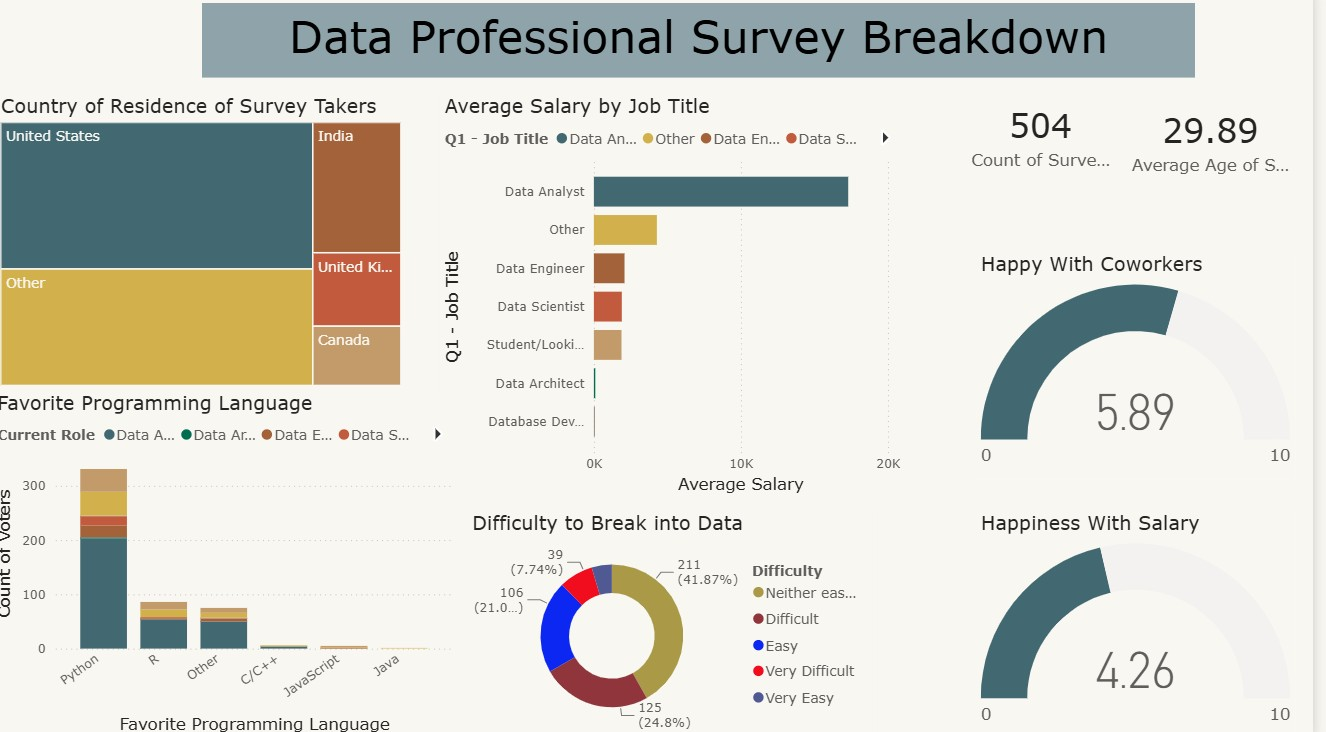

This screenshot's page, from the dashboard's own definition file:
{"tool":"powerbi","page":{"name":"Page 1","canvas":[1280,720],"ordinal":0},"visuals":[{"type":"card","fields":{"Values":["CountNonNull(Data Professional Survey.Unique ID)"]},"box":[944.6,82,144.8,111],"z":0},{"type":"textbox","box":[207.9,9.8,958.7,72.1],"z":1000},{"type":"card","fields":{"Values":["Avg(Data Professional Survey.Q10 - Current Age)"]},"box":[1098.8,82.5,163.8,121.2],"z":2000},{"type":"barChart","title":"Average Salary by Job Title","fields":{"Category":["Data Professional Survey.Q1 - Which Title Best Fits your Current Role?.1"],"Y":["Sum(Data Professional Survey.Average Salary)"],"Series":["Data Professional Survey.Q1 - Which Title Best Fits your Current Role?.1"]},"box":[436.2,97.5,450,390],"z":3000},{"type":"columnChart","title":"Favorite Programming Language","fields":{"Category":["Data Professional Survey.Q5 - Favorite Programming Language.1"],"Y":["CountNonNull(Data Professional Survey.Unique ID)"],"Series":["Data Professional Survey.Q1 - Which Title Best Fits your Current Role?.1"]},"box":[5,383.8,450,336.2],"z":4000},{"type":"treemap","title":"Country of Residence of Survey Takers","fields":{"Group":["Data Professional Survey.Q11 - Which Country do you live in?.1"],"Values":["CountNonNull(Data Professional Survey.Q11 - Which Country do you live in?.1)"]},"box":[8.8,97.5,396.2,286.2],"z":5000},{"type":"gauge","title":"Happy With Coworkers","fields":{"Y":["Avg(Data Professional Survey.Q6 - How Happy are you in your Current Position with the following? (Coworkers))"],"MinValue":["Min(Data Professional Survey.Q6 - How Happy are you in your Current Position with the following? (Coworkers))"],"MaxValue":["Max(Data Professional Survey.Q6 - How Happy are you in your Current Position with the following? (Coworkers))1"]},"box":[953.8,250,308.8,220],"z":6000},{"type":"gauge","title":"Happiness With Salary","fields":{"Y":["Avg(Data Professional Survey.Q6 - How Happy are you in your Current Position with the following? (Salary))"],"MinValue":["Min(Data Professional Survey.Q6 - How Happy are you in your Current Position with the following? (Salary))"],"MaxValue":["Max(Data Professional Survey.Q6 - How Happy are you in your Current Position with the following? (Salary))"]},"box":[953.8,500,308.8,220],"z":7000},{"type":"donutChart","title":"Difficulty to Break into Data","fields":{"Category":["Data Professional Survey.Q7 - How difficult was it for you to break into Data?"],"Y":["CountNonNull(Data Professional Survey.Q7 - How difficult was it for you to break into Data?)"]},"box":[463,500,396,220],"z":8000}]}

Visuals, with their boxes in screenshot pixels (x1, y1, x2, y2), scaled from the page's 1280x720 canvas onto the 1326x732 screenshot:
card - CountNonNull(Data Professional Survey.Unique ID): <bbox>979, 83, 1129, 196</bbox>
textbox: <bbox>215, 10, 1209, 83</bbox>
card - Avg(Data Professional Survey.Q10 - Current Age): <bbox>1138, 84, 1308, 207</bbox>
"Average Salary by Job Title" barChart: <bbox>452, 99, 918, 496</bbox>
"Favorite Programming Language" columnChart: <bbox>5, 390, 471, 731</bbox>
"Country of Residence of Survey Takers" treemap: <bbox>9, 99, 420, 390</bbox>
"Happy With Coworkers" gauge: <bbox>988, 254, 1308, 478</bbox>
"Happiness With Salary" gauge: <bbox>988, 508, 1308, 731</bbox>
"Difficulty to Break into Data" donutChart: <bbox>480, 508, 890, 731</bbox>
